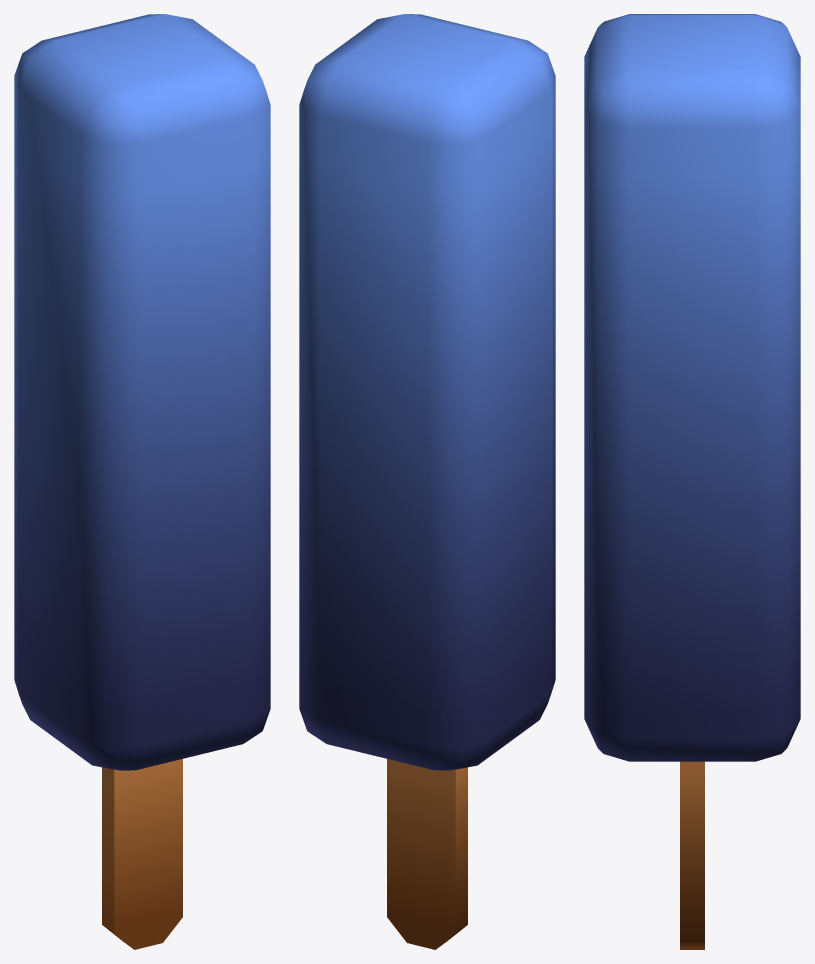
The model's file is m_SquarePopsicle06.fbx.
3 views of the same model, side by side, from view 1: azimuth 30°, elevation 25°; view 2: azimuth 150°, elevation 25°; view 3: azimuth 270°, elevation 25° (orthographic).
Visible parts, largest first — view 1: m_SquarePopsicle06; view 2: m_SquarePopsicle06; view 3: m_SquarePopsicle06.
Part boxes in pixels (<box>): m_SquarePopsicle06: <box>14,14,270,949</box>; m_SquarePopsicle06: <box>299,14,555,949</box>; m_SquarePopsicle06: <box>584,14,800,949</box>.
Bounding box in the file's own units: 5 × 23.01 × 5.
